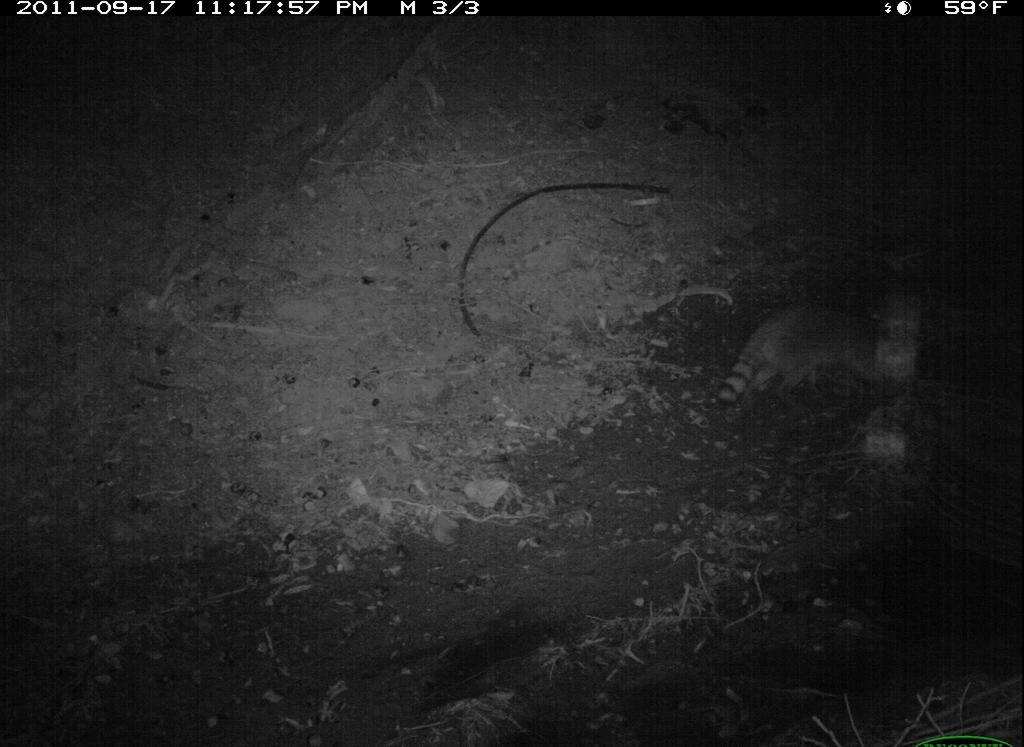raccoon: (704, 283, 922, 421)
